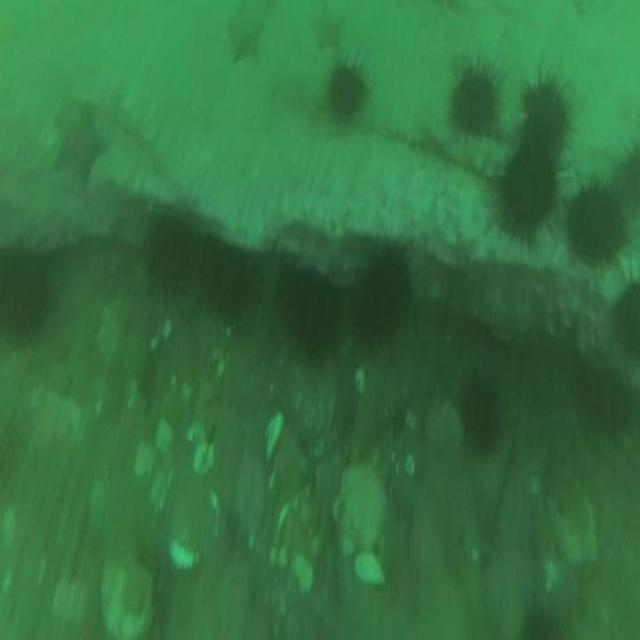echinus: (276, 269, 338, 357), (356, 255, 410, 348), (501, 152, 555, 238), (0, 246, 47, 344), (572, 185, 626, 270), (148, 218, 198, 297), (524, 79, 564, 155), (458, 382, 502, 450), (208, 250, 252, 316), (452, 68, 496, 131), (327, 62, 364, 122), (617, 281, 640, 365)
scallop: (330, 464, 388, 554)
starfish: (54, 106, 106, 183), (227, 8, 262, 68), (311, 3, 342, 54)
